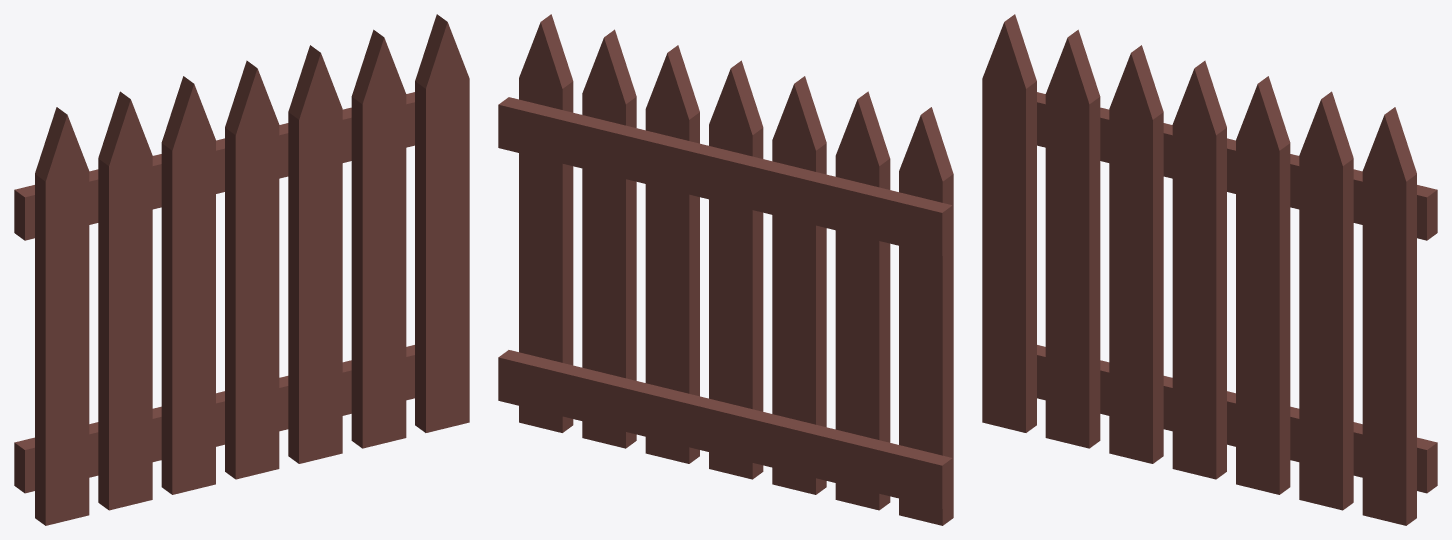
File: WoodenFenceScaled 1.fbx
3 renders of one model, left to right at view 1: azimuth 30°, elevation 25°; view 2: azimuth 150°, elevation 25°; view 3: azimuth 330°, elevation 25°, orthographic.
Visible parts, largest first — view 1: Cube.009; view 2: Cube.009; view 3: Cube.009.
Boxes of the visible parts, box(x1,y1,x2,y2) form: Cube.009: box(14, 14, 469, 525); Cube.009: box(498, 14, 953, 525); Cube.009: box(982, 14, 1437, 525).
Bounding box in the file's own units: 182 × 159 × 15.12.
